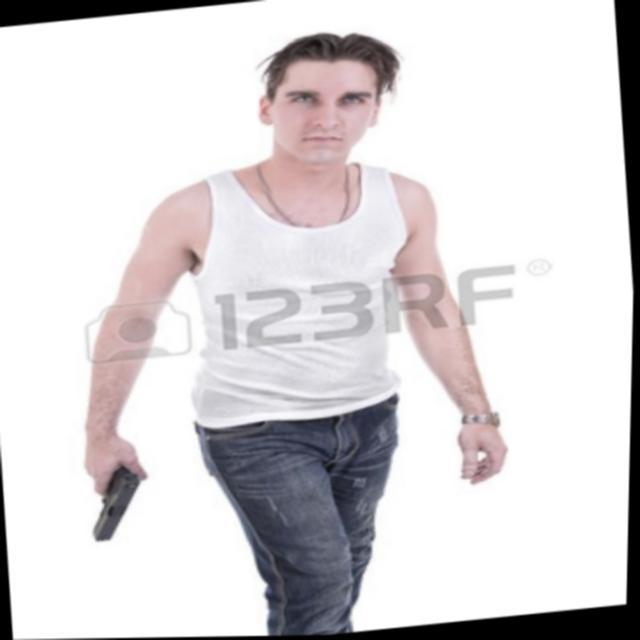weapon: (88, 462, 147, 542)
